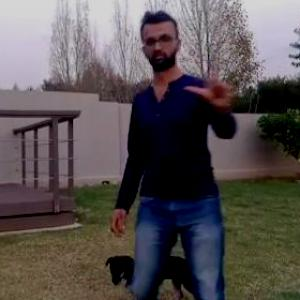land_hand: (183, 40, 239, 115)
